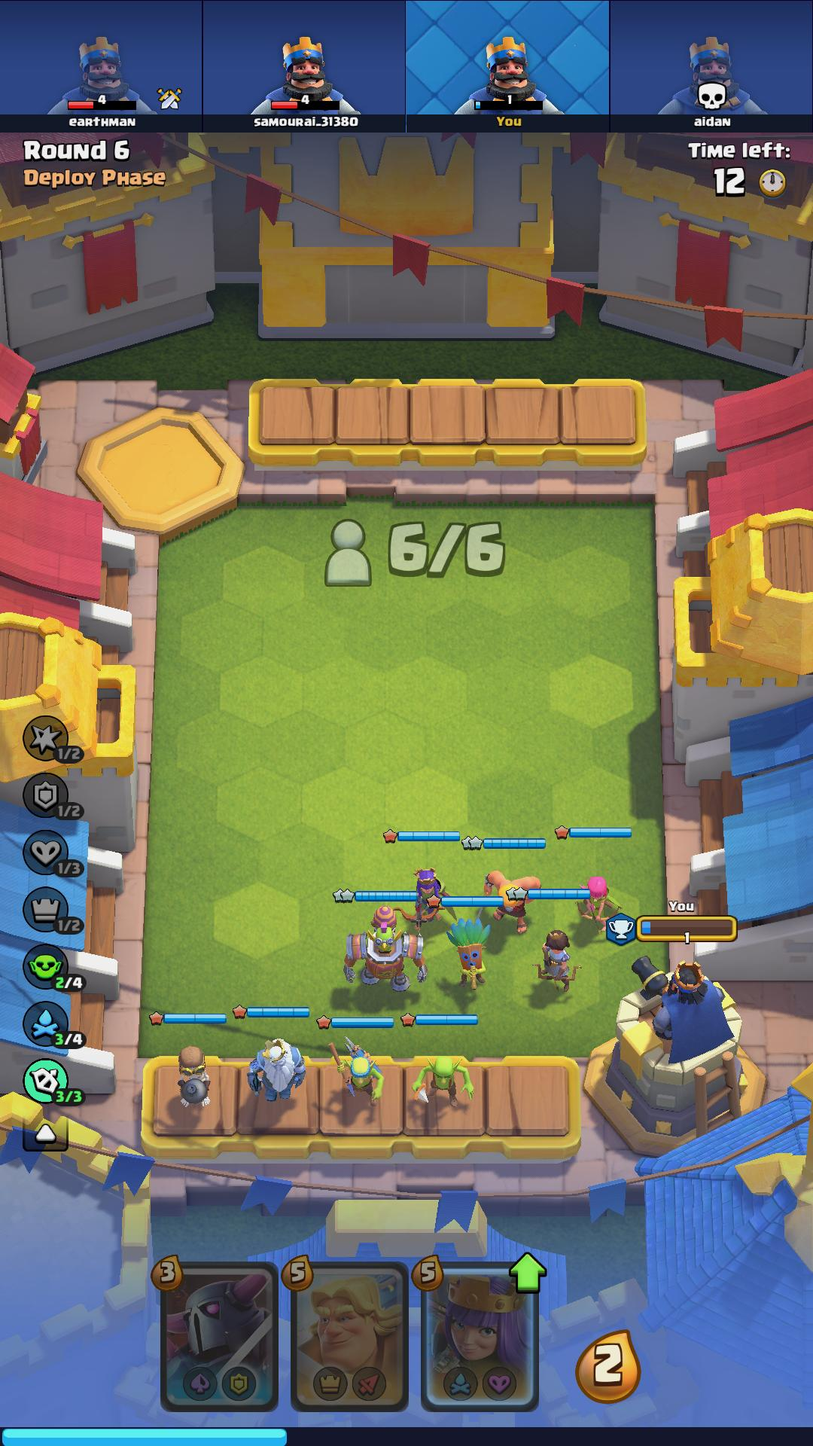archer: (565, 854, 637, 958)
barbarian: (476, 855, 547, 925)
bomber: (164, 1031, 225, 1122)
dart: (432, 909, 503, 1008)
ghost: (243, 1029, 307, 1112)
goblin: (408, 1036, 487, 1123)
hand-golden: (299, 1265, 406, 1410)
hand-pekka: (166, 1267, 280, 1403)
hand-queen: (422, 1268, 542, 1413)
machine: (337, 901, 430, 1008)
princess: (529, 919, 580, 1010)
queen: (400, 862, 462, 930)
spear: (326, 1032, 390, 1112)
upgrade: (506, 1249, 550, 1298)
